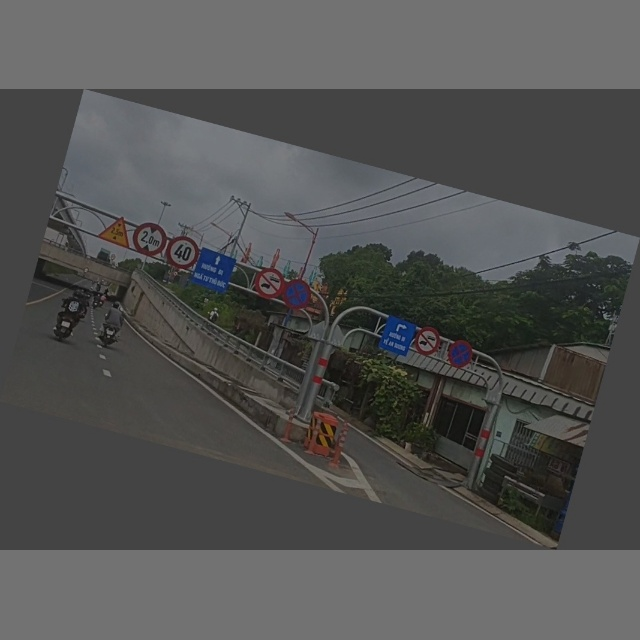P.107: (253, 266, 288, 302), (409, 324, 444, 359)
P.117*: (128, 216, 172, 262)
P.127*40: (162, 233, 204, 273)
P.130: (280, 278, 315, 314), (445, 338, 477, 372)
W.239b*: (96, 213, 137, 251)
